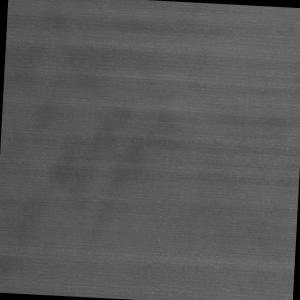Wrinkle: (1, 1, 300, 240)
